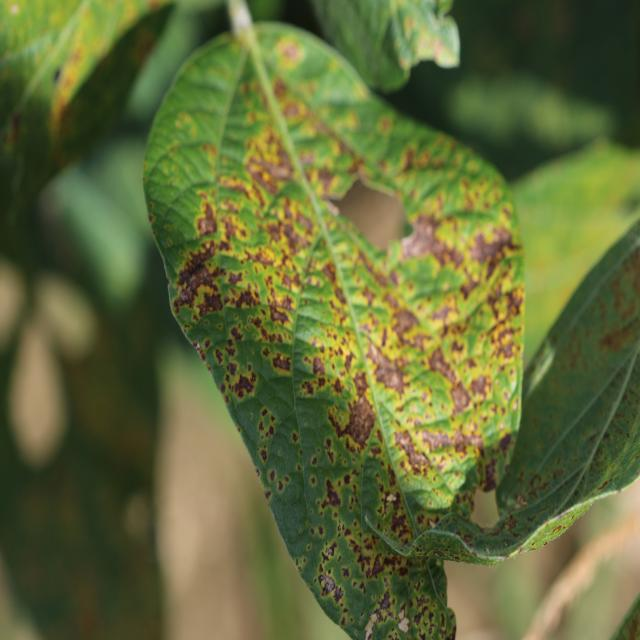Bacterial_Blight: (406, 213, 484, 279), (173, 244, 230, 312), (427, 423, 483, 460), (599, 313, 640, 353), (355, 252, 394, 291), (397, 435, 434, 473), (346, 396, 377, 441), (370, 349, 403, 391), (273, 217, 309, 254), (368, 588, 396, 631), (429, 346, 459, 384), (254, 156, 291, 183), (388, 501, 412, 539), (319, 570, 344, 603), (393, 308, 420, 338), (320, 478, 342, 509), (196, 205, 217, 237), (315, 165, 339, 193), (430, 302, 457, 326), (230, 372, 255, 397), (268, 300, 292, 324), (470, 373, 491, 399), (8, 113, 22, 145), (353, 371, 370, 396), (271, 352, 291, 372), (282, 42, 300, 62), (599, 473, 618, 491), (312, 356, 326, 376), (370, 556, 382, 577), (514, 493, 528, 508), (214, 348, 224, 365), (228, 361, 238, 376), (321, 550, 331, 563), (53, 67, 61, 83), (341, 566, 350, 579), (260, 448, 268, 462), (386, 492, 396, 503), (291, 432, 299, 444), (268, 470, 276, 482), (264, 490, 272, 501), (277, 480, 284, 491), (148, 212, 154, 222), (298, 528, 305, 536), (318, 526, 324, 535), (255, 468, 260, 477)
Soybean: (144, 23, 525, 640)
